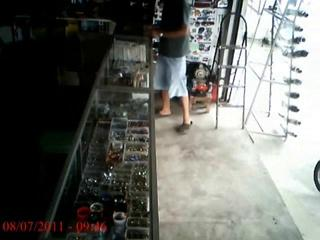Normal: (148, 0, 192, 132)
